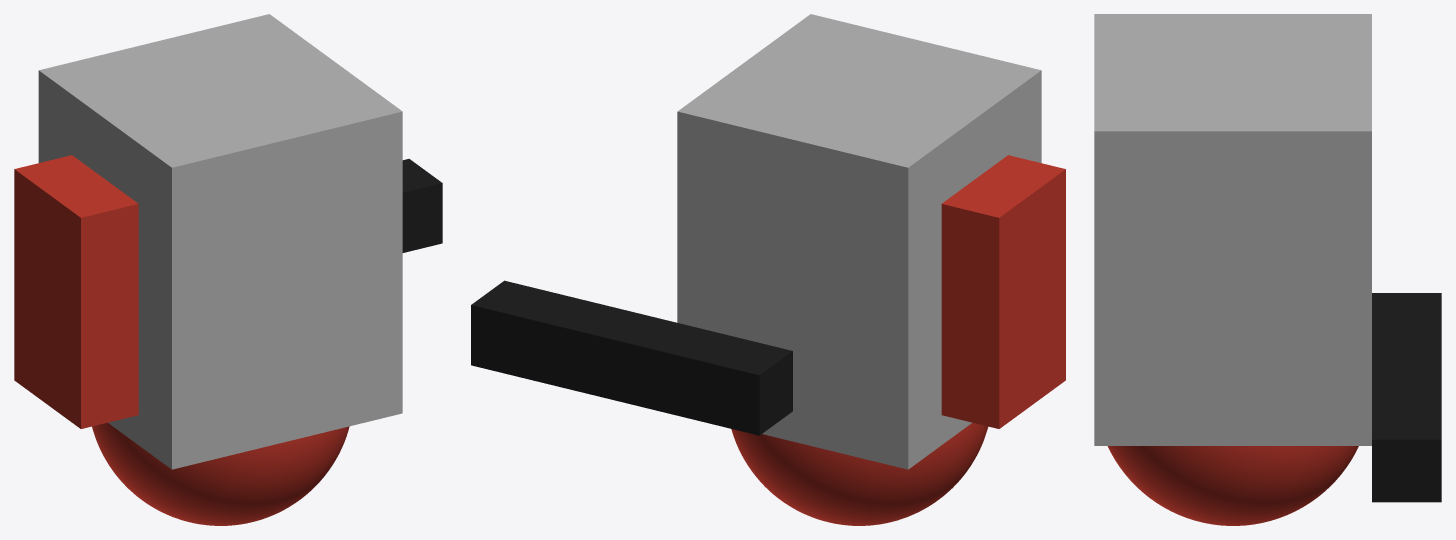
The model's file is vanguardMarine.obj.
3 views of the same model, side by side, from view 1: azimuth 30°, elevation 25°; view 2: azimuth 150°, elevation 25°; view 3: azimuth 270°, elevation 25° (orthographic). The views are drawn at different scales.
Parts seen in each view (by area): view 1: Body5, Body3, Body2, Body1; view 2: Body5, Body3, Body1, Body2; view 3: Body5, Body1, Body2.
Boxes of the visible parts, x1,y1,x2,y2 form: Body5: (38,14,402,469); Body3: (14,155,138,428); Body2: (92,422,349,525); Body1: (402,159,442,252); Body5: (677,14,1041,469); Body3: (941,155,1065,428); Body1: (471,280,792,435); Body2: (731,422,987,525); Body5: (1094,14,1371,445); Body1: (1372,293,1441,502); Body2: (1107,446,1358,525).
Bounding box in the file's own units: 0.08 × 0.07 × 0.05.
